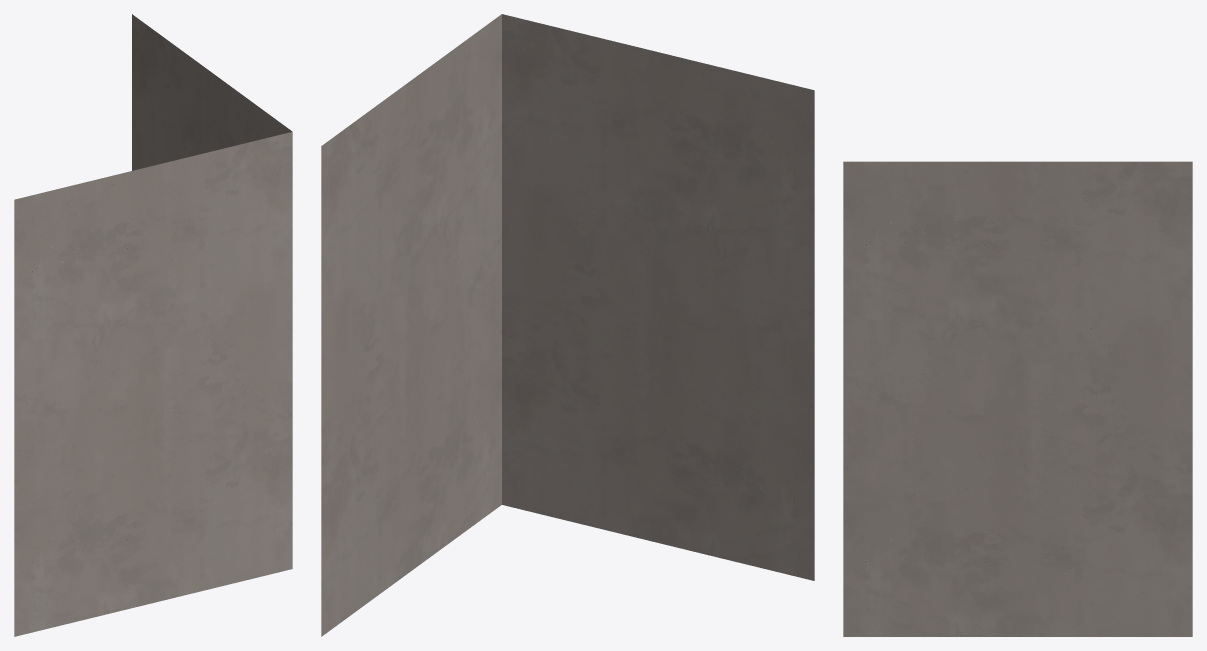
File: SM_ENV_K1_WALL_CORNER_2X3_01.fbx
3 renders of one model, left to right at view 1: azimuth 30°, elevation 25°; view 2: azimuth 150°, elevation 25°; view 3: azimuth 270°, elevation 25°, orthographic. The views are drawn at different scales.
Visible parts, largest first — view 1: SM_ENV_K1_WALL_CORNER_2X3_01; view 2: SM_ENV_K1_WALL_CORNER_2X3_01; view 3: SM_ENV_K1_WALL_CORNER_2X3_01.
Part boxes in pixels (left/top/right/bottom): SM_ENV_K1_WALL_CORNER_2X3_01: left=14, top=14, right=292, bottom=636; SM_ENV_K1_WALL_CORNER_2X3_01: left=321, top=14, right=814, bottom=636; SM_ENV_K1_WALL_CORNER_2X3_01: left=843, top=161, right=1192, bottom=636.
Bounding box in the file's own units: 2 × 3 × 2.
